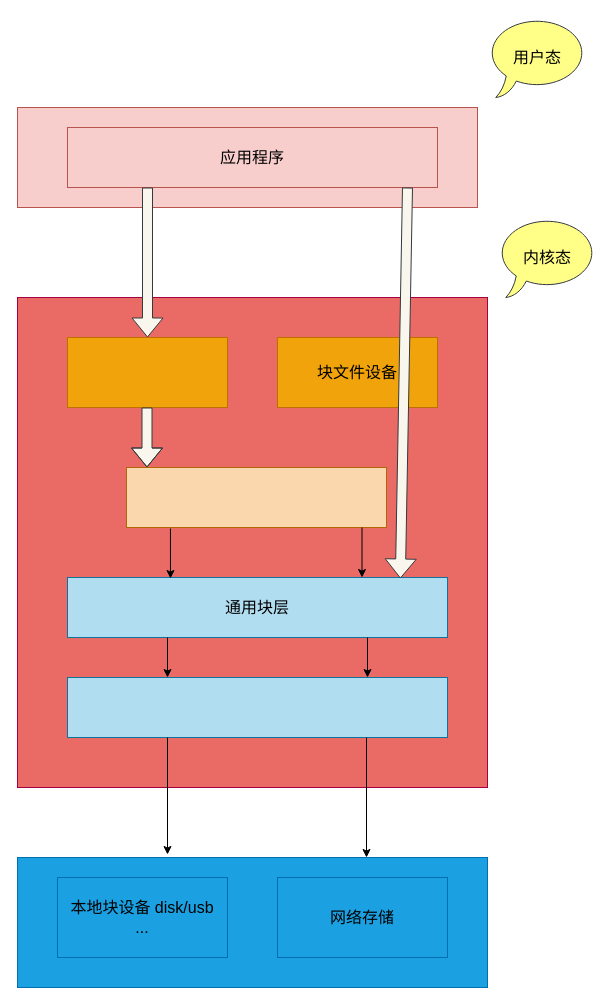
This 615x1005 diagram has some shape labels left out. Each missing label, with the centre of its shape:
"IO 调度层" goes at point (257, 707).
"page / buffer cache" goes at point (256, 497).
"虚拟文件系统 ext 2 3 4, xfs" goes at point (147, 372).
